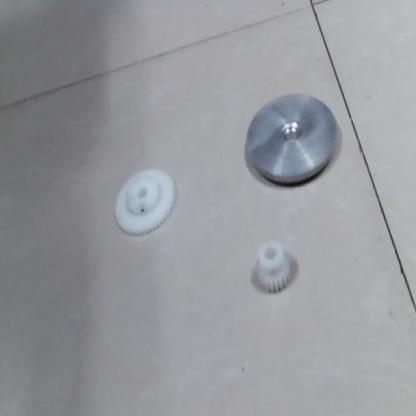FOD: (246, 90, 339, 194), (106, 167, 180, 242), (252, 240, 295, 295)
